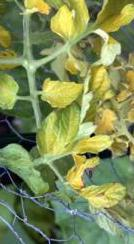Tomato leaf yellow virus: (60, 166, 134, 244), (0, 141, 52, 212), (35, 93, 82, 162), (49, 4, 89, 48)
